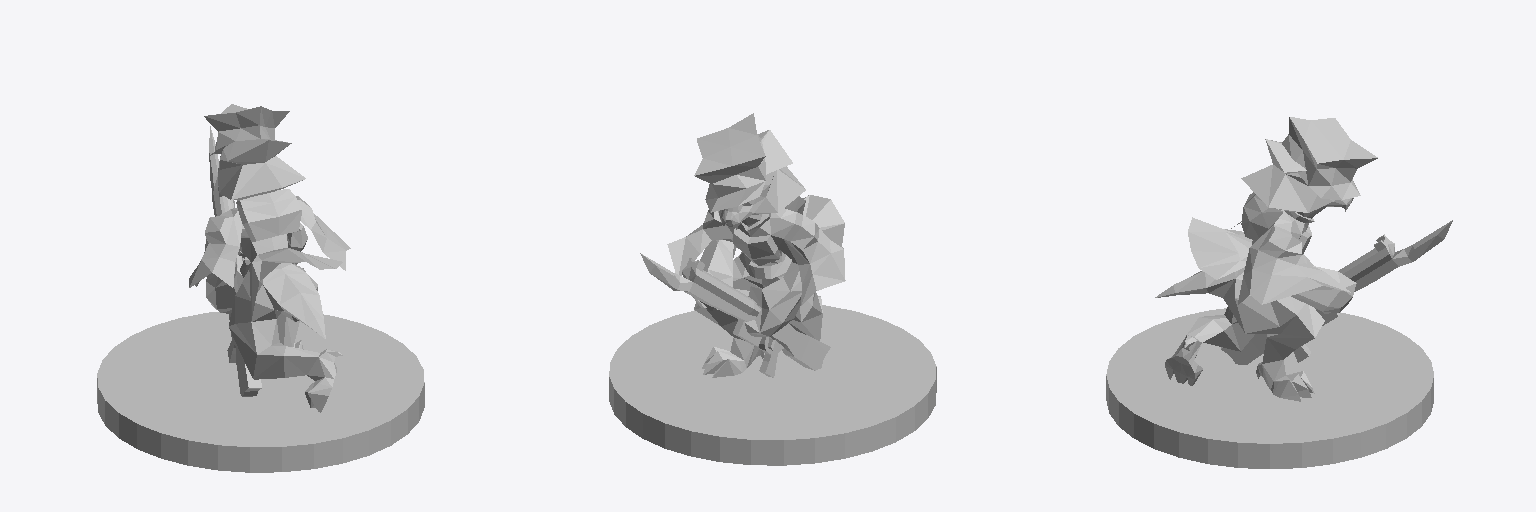
The model's file is kobold_linear_blaster_trooper_01.obj.
3 views of the same model, side by side, from view 1: azimuth 30°, elevation 25°; view 2: azimuth 150°, elevation 25°; view 3: azimuth 270°, elevation 25° (orthographic).
Parts seen in each view (by area): view 1: Cylinder, Cube, Cube.002_Cube.003, Cube.003_Cube.001, Cube.004; view 2: Cylinder, Cube, Cube.002_Cube.003, Cube.004, Cube.003_Cube.001; view 3: Cylinder, Cube, Cube.002_Cube.003, Cube.003_Cube.001, Cube.004.
Part boxes in pixels (x1,y1,x2,y2): Cylinder: (97,312,424,472); Cube: (206,139,342,412); Cube.002_Cube.003: (189,189,350,320); Cube.003_Cube.001: (204,104,289,155); Cube.004: (209,126,261,396); Cylinder: (609,305,936,465); Cube: (693,130,822,377); Cube.002_Cube.003: (667,195,845,305); Cube.004: (640,253,830,377); Cube.003_Cube.001: (694,113,765,212); Cylinder: (1106,308,1433,468); Cube: (1155,139,1356,401); Cube.002_Cube.003: (1188,192,1350,304); Cube.003_Cube.001: (1282,117,1377,199); Cube.004: (1221,220,1452,364).
Size of the model in its own units: 2.1 by 2.03 by 2.22.